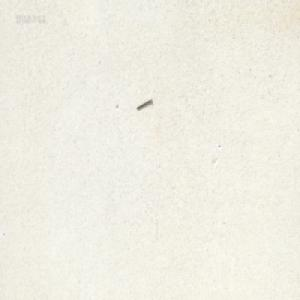Bolt: (135, 96, 151, 109)
